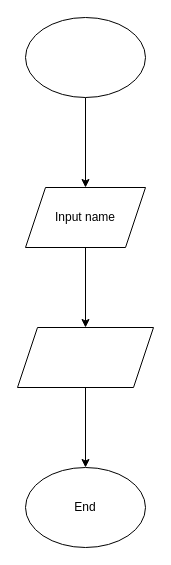
This 171x565 diagram has some shape labels left out. The shapes that lost their labels are listed below. From the top down, each one's centre as x and y in pixels, then its label:
At pixel 85 57: "Start".
At pixel 85 357: "Output Reveres name".
